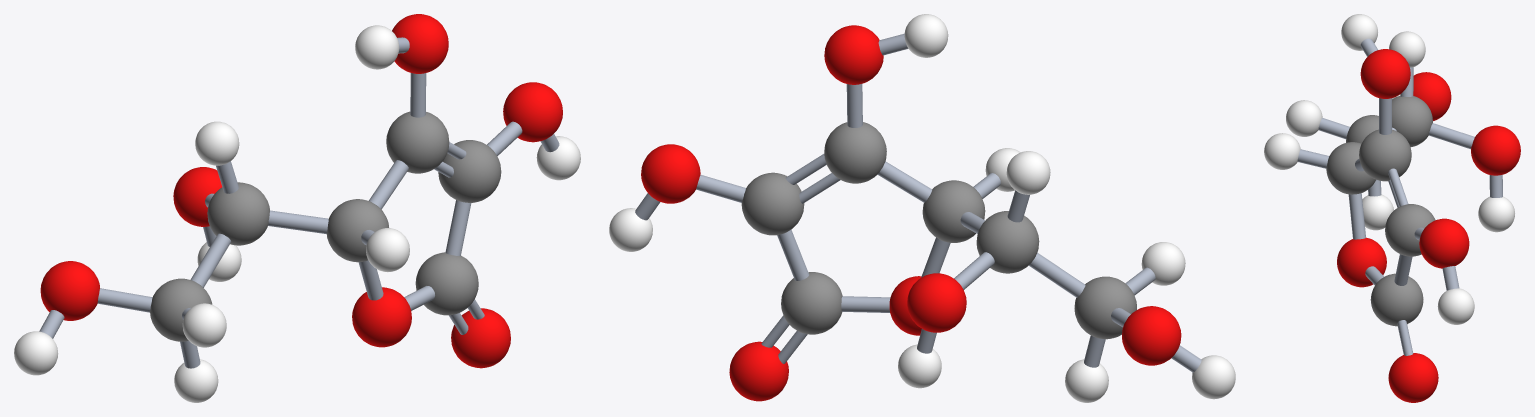
File: vitamin-c.glb
The picture shows the model from 3 angles, left to right: view 1: azimuth 30°, elevation 25°; view 2: azimuth 150°, elevation 25°; view 3: azimuth 270°, elevation 25°; orthographic projection. The views are drawn at different scales.
Parts seen in each view (by area): view 1: C (×6), O (×6), H (×8), bond (×8); view 2: C (×6), O (×6), H (×8), bond (×8); view 3: O (×6), C (×6), H (×7), bond (×10).
Boxes of the visible parts, x1=… form: C (×6): x1=150, y1=111, x2=501, y2=341; O (×6): x1=40, y1=14, x2=562, y2=368; H (×8): x1=14, y1=25, x2=580, y2=402; bond (×8): x1=97, y1=73, x2=522, y2=312; C (×6): x1=741, y1=122, x2=1136, y2=339; O (×6): x1=641, y1=25, x2=1181, y2=401; H (×8): x1=609, y1=14, x2=1235, y2=402; bond (×8): x1=696, y1=84, x2=1085, y2=312; O (×6): x1=1337, y1=49, x2=1520, y2=402; C (×6): x1=1326, y1=96, x2=1435, y2=326; H (×7): x1=1264, y1=14, x2=1514, y2=324; bond (×10): x1=1297, y1=98, x2=1502, y2=355.
Size of the model in its own units: 0.22 by 0.1399 by 0.0989.
